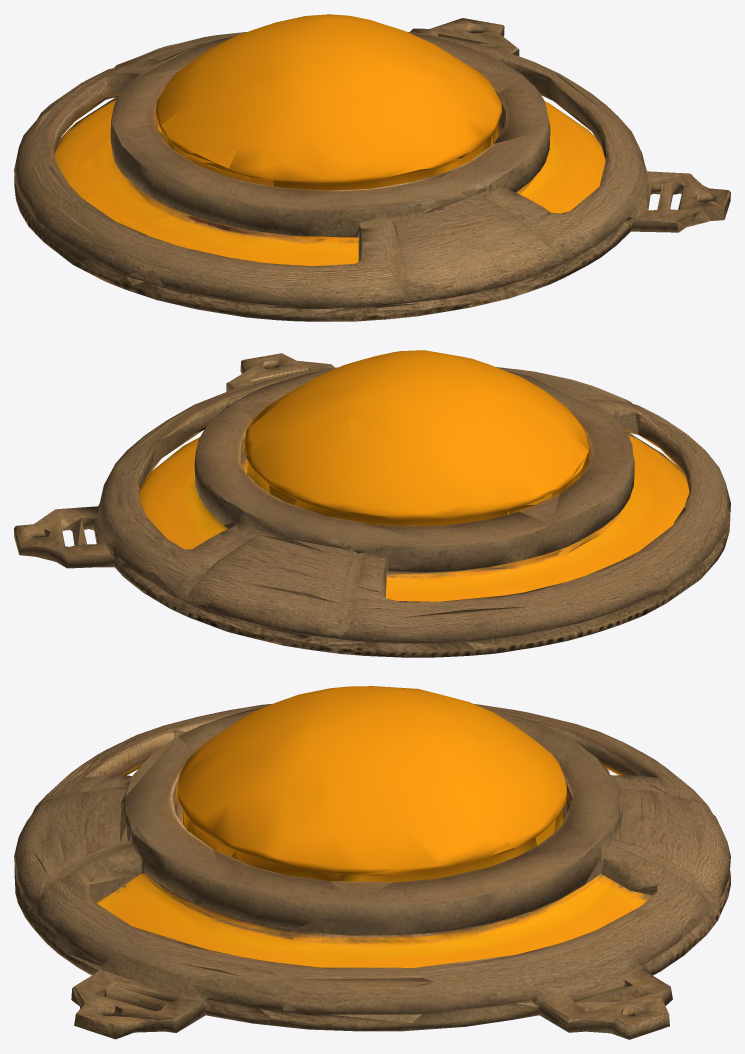
The model's file is Teleporteur.fbx.
3 renders of one model, top to bottom at view 1: azimuth 30°, elevation 25°; view 2: azimuth 150°, elevation 25°; view 3: azimuth 270°, elevation 25°, orthographic. The views are drawn at different scales.
Visible parts, largest first — view 1: Mesh_0; view 2: Mesh_0; view 3: Mesh_0.
Boxes of the visible parts, x1,y1,x2,y2 form: Mesh_0: [14, 14, 730, 321]; Mesh_0: [14, 350, 730, 657]; Mesh_0: [14, 686, 730, 1039].
Size of the model in its own units: 190 by 49.68 by 185.
1 material, 1 textured.
